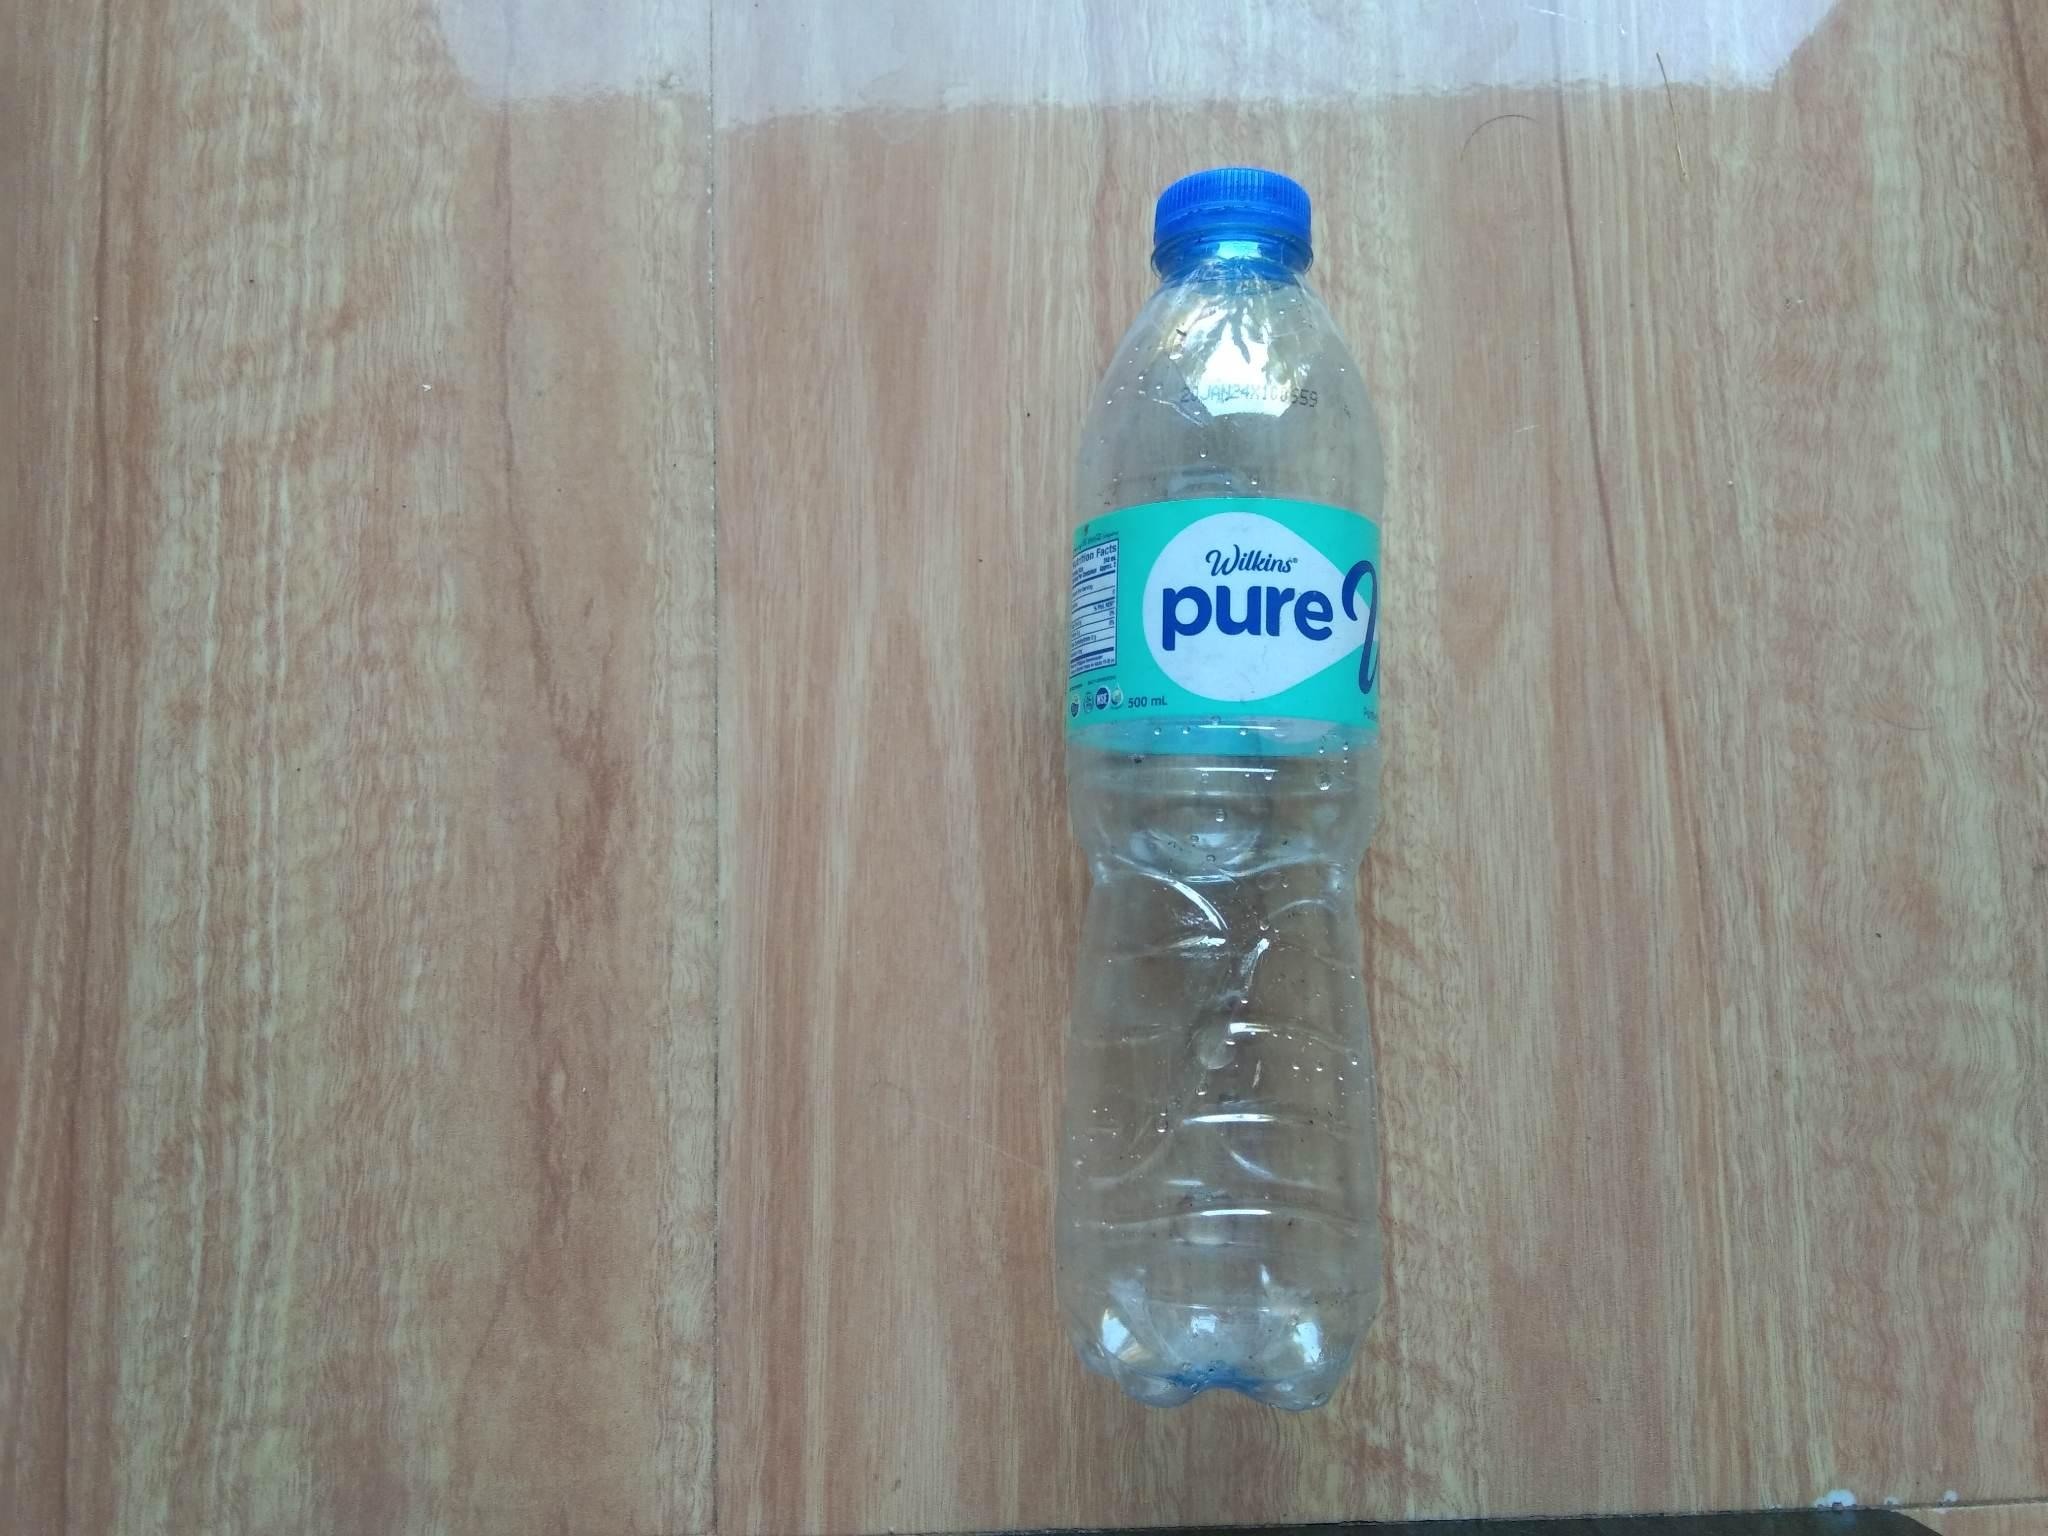plastic: (913, 115, 1513, 1438)
